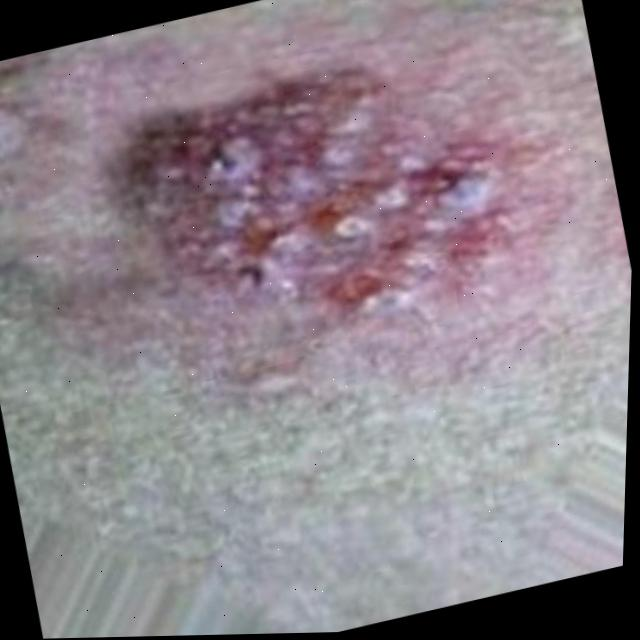Shingles: (107, 24, 536, 370)
